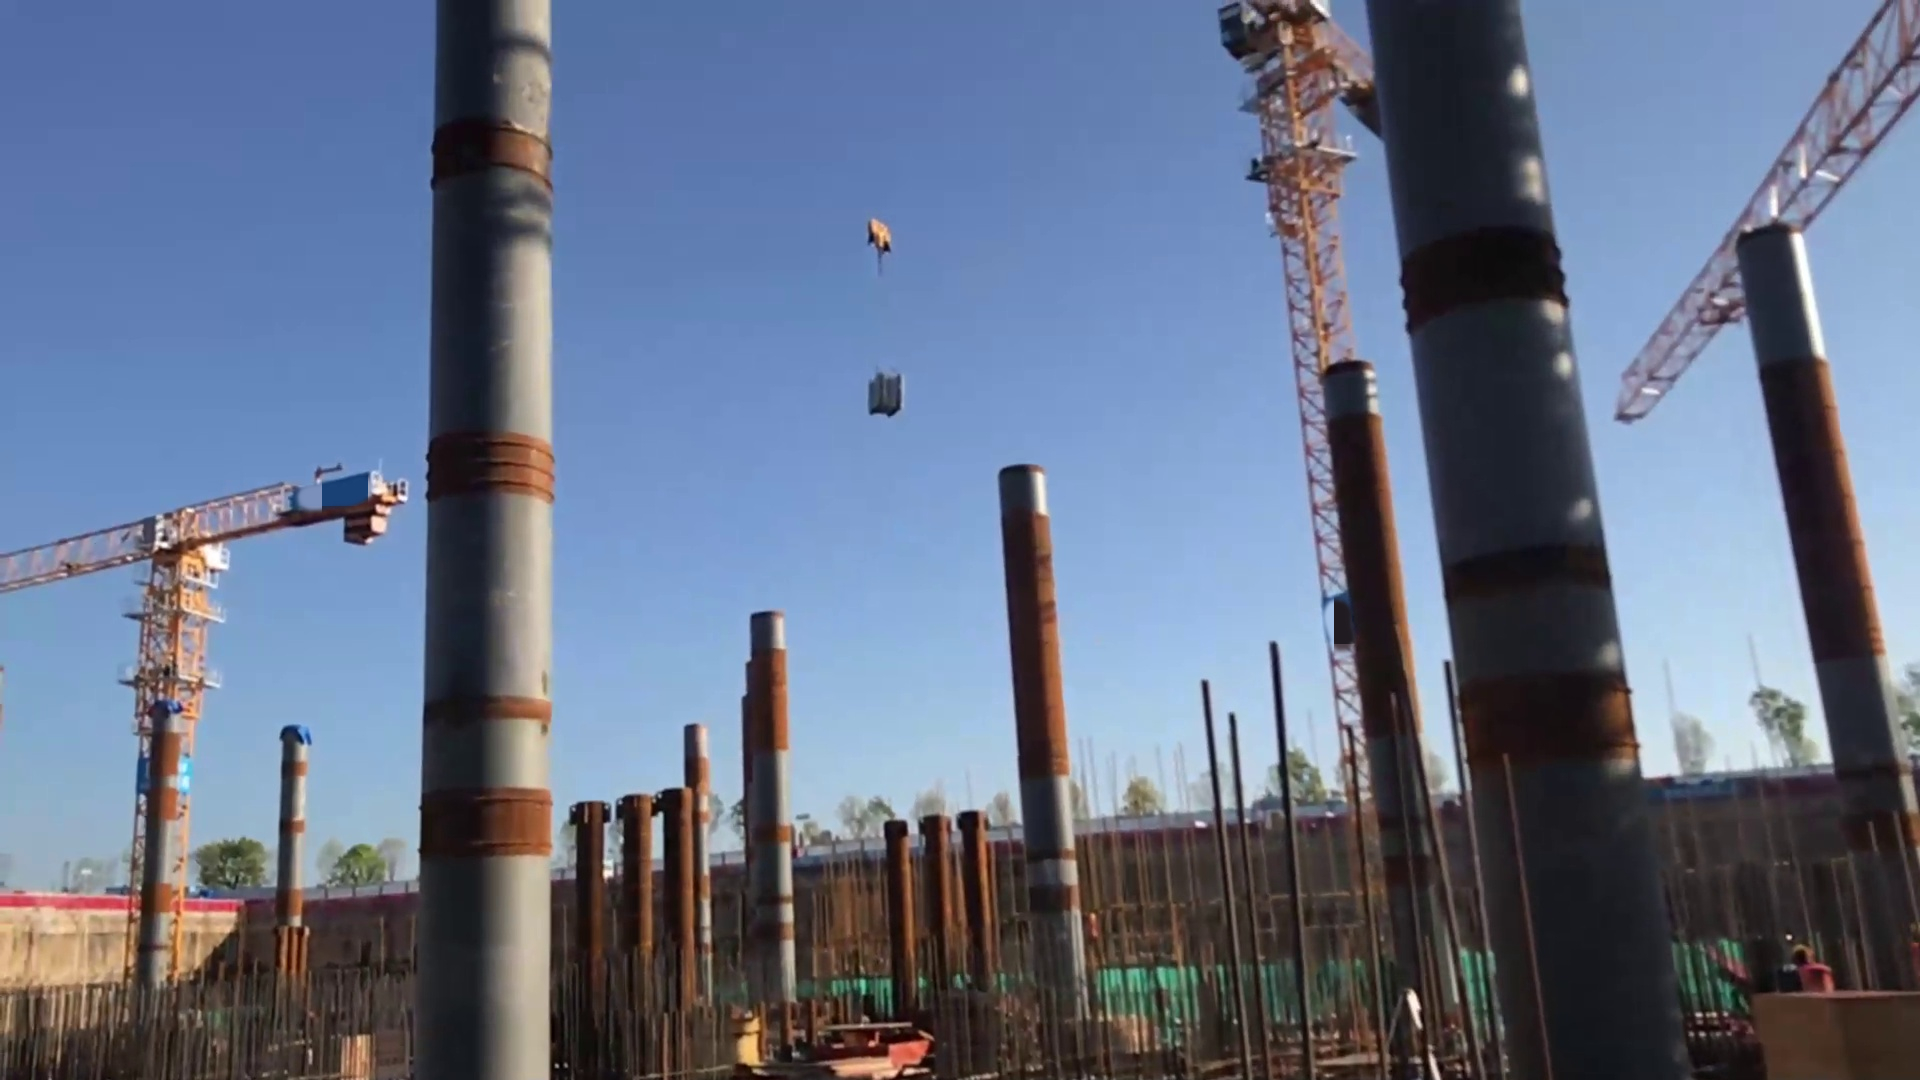hook: (861, 214, 899, 255)
